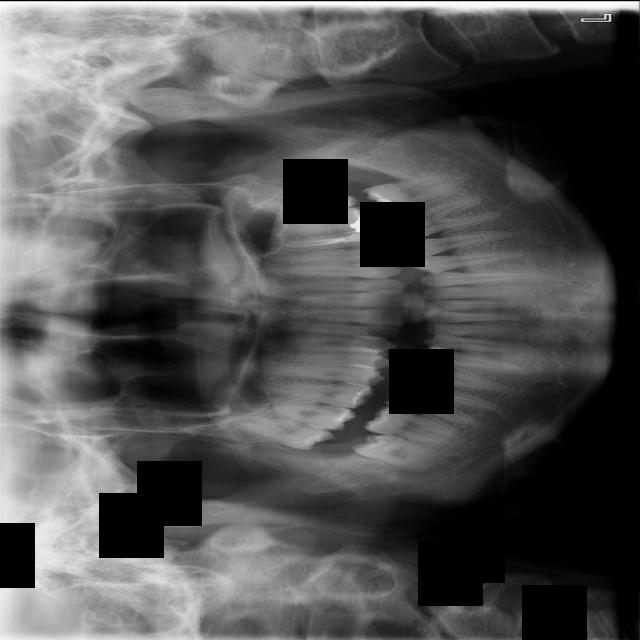3M ESPE Implant: (219, 401, 337, 457)
52: (361, 170, 416, 221), (384, 375, 434, 410), (331, 204, 377, 233), (326, 380, 371, 409), (389, 210, 432, 238), (346, 228, 381, 247)
73: (285, 232, 357, 252), (597, 16, 611, 22)
BioHorizons Implant: (238, 182, 359, 225)
Blue Sky Bio Implant: (361, 169, 460, 218)
Caries: (218, 397, 356, 431)
Implant: (362, 399, 463, 449)
Keystone Dental Implant: (350, 424, 446, 476)
